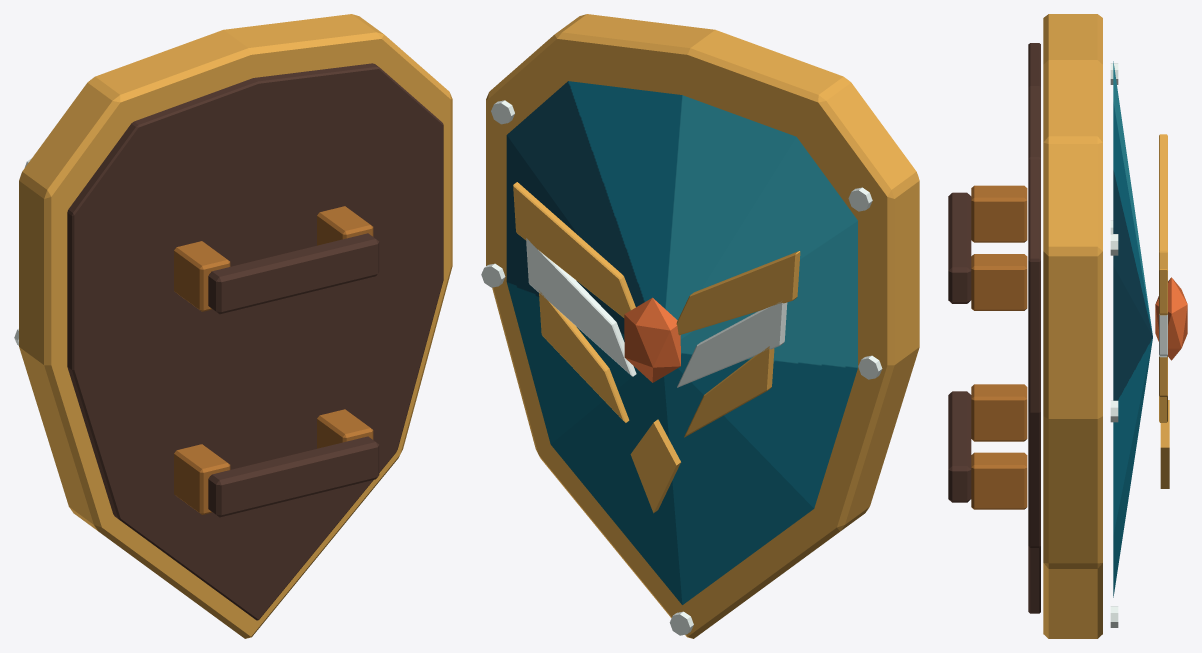
File: shield.gltf
3 views of the same model, side by side, from view 1: azimuth 30°, elevation 25°; view 2: azimuth 150°, elevation 25°; view 3: azimuth 270°, elevation 25° (orthographic). The views are drawn at different scales.
Visible parts, largest first — view 1: Shield; view 2: Shield; view 3: Shield.
Boxes of the visible parts, x1=… form: Shield: x1=14, y1=14, x2=452, y2=638; Shield: x1=481, y1=14, x2=919, y2=638; Shield: x1=948, y1=14, x2=1187, y2=638.
Bounding box in the file's own units: 0.8 × 1.1 × 0.4151.
1 material, 1 textured.
